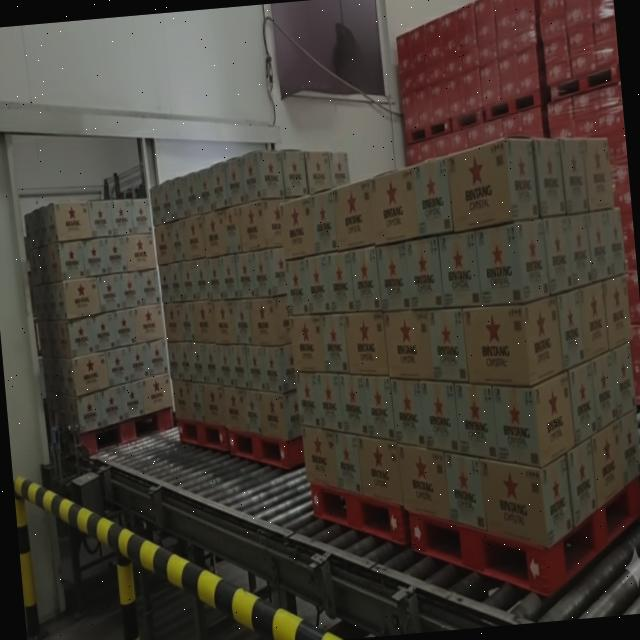pallet: (369, 124, 640, 617), (198, 132, 376, 480), (272, 164, 410, 568), (18, 180, 180, 463), (142, 153, 234, 469)
